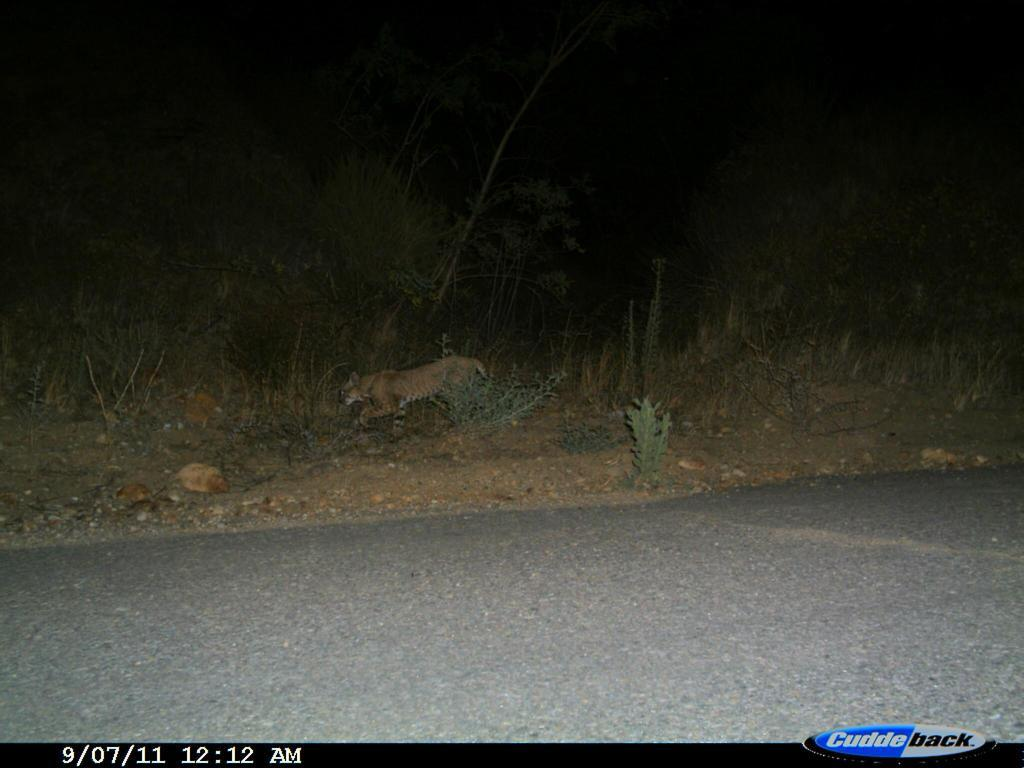bobcat: (340, 345, 513, 452)
